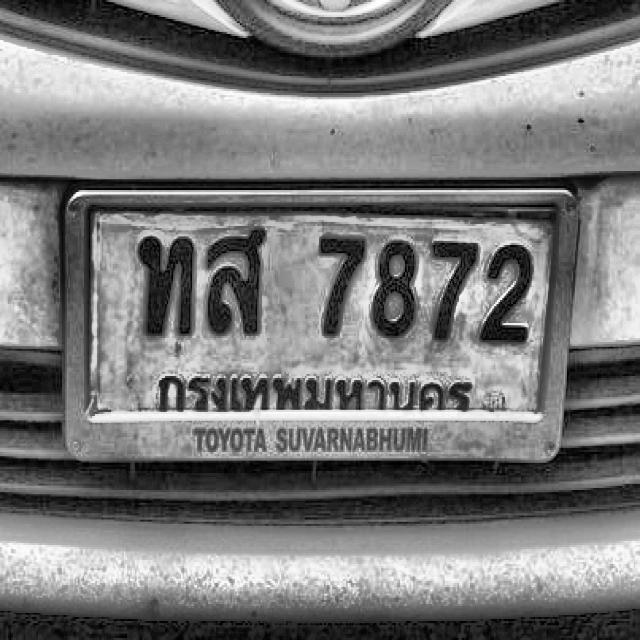license-plate: (60, 147, 592, 494)
